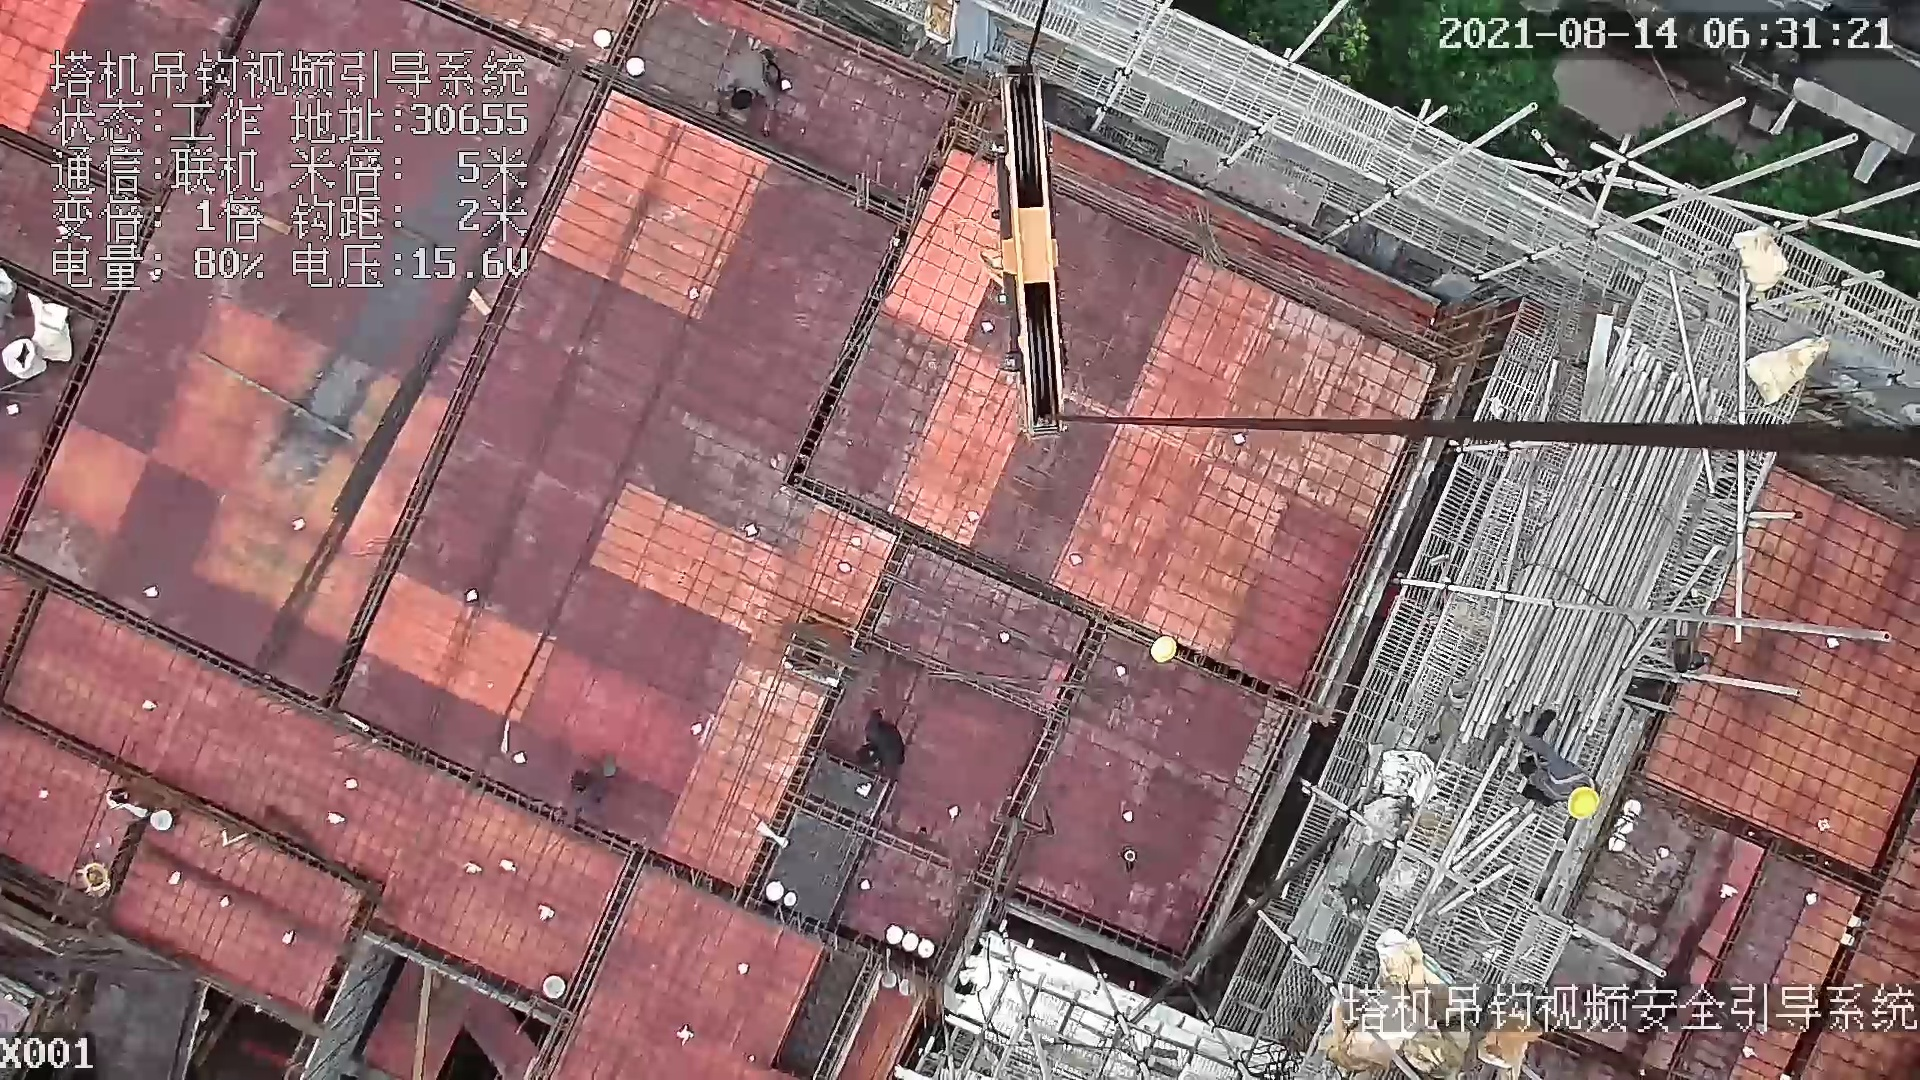helmet: (1565, 786, 1602, 821), (1145, 634, 1176, 666)
hook: (969, 67, 1077, 436)
person: (1501, 715, 1606, 824), (711, 38, 793, 110), (851, 707, 912, 778)
scaffold: (1517, 327, 1736, 776)
